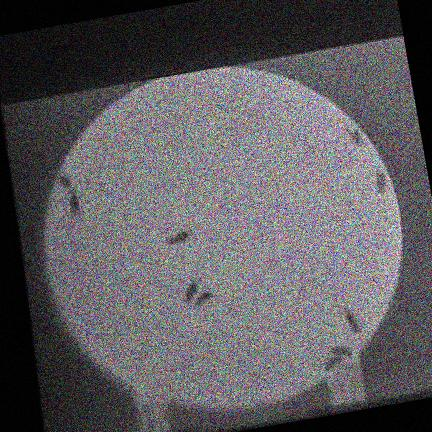fly: (166, 228, 192, 244), (343, 308, 359, 332), (347, 127, 367, 146), (184, 277, 198, 303), (193, 289, 211, 307), (67, 189, 79, 215), (374, 168, 386, 192), (323, 355, 342, 370), (329, 345, 350, 356), (57, 173, 70, 188)
